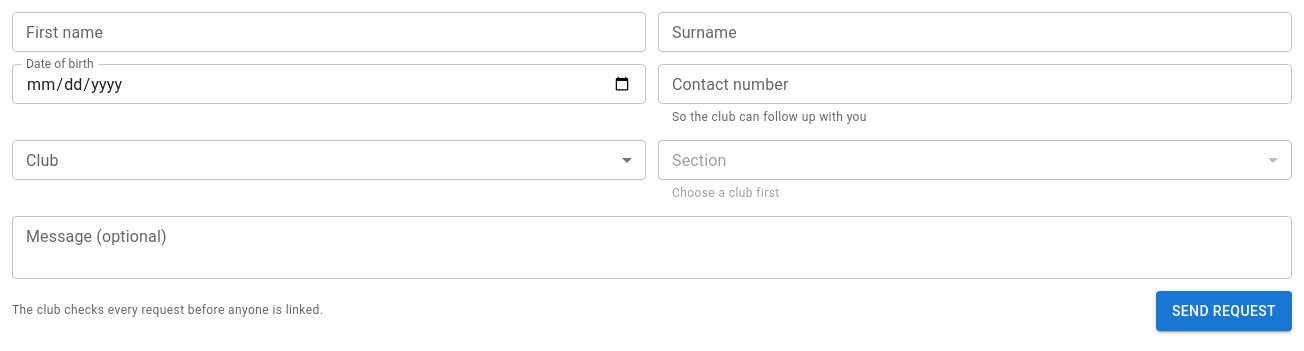
Scenario: LinkRequestForm › requires the contact number even when everything else is filled in
Expected: the 1st dropdown named "Club" is shown, left=12, top=140, right=646, bottom=180
Type "Aman" into the field labelled "First name" at (329, 32), box left=12, top=12, right=646, bottom=52
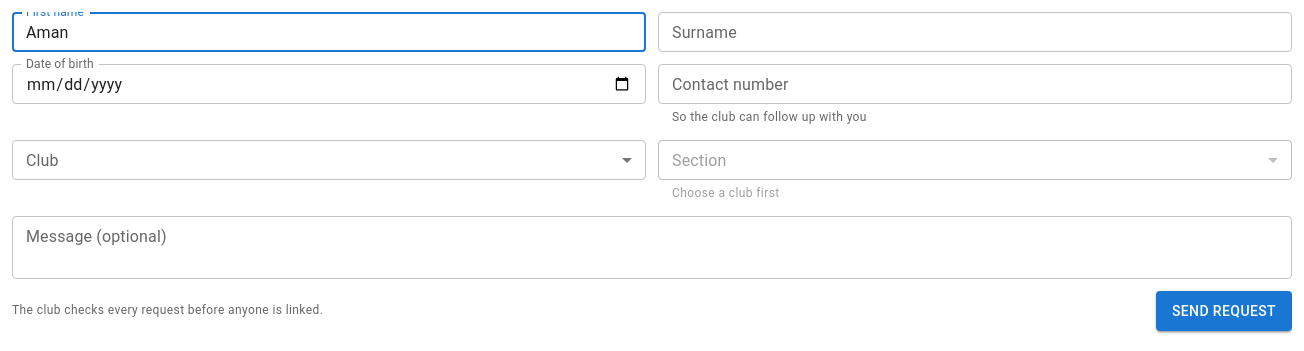
Type "Naidoo" into the field labelled "Surname" at (975, 32), box left=658, top=12, right=1292, bottom=52
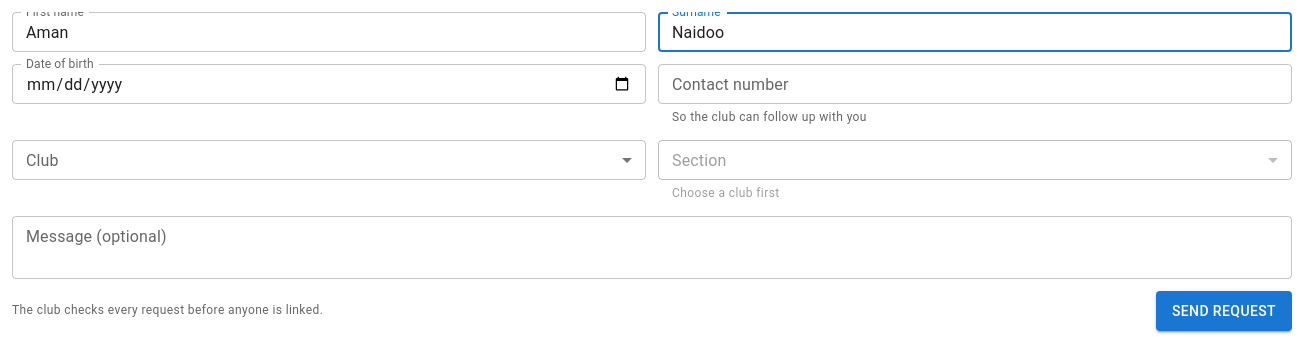
Type "2012-03-04" into the date field labelled "Date of birth" at (329, 84), box left=12, top=64, right=646, bottom=104
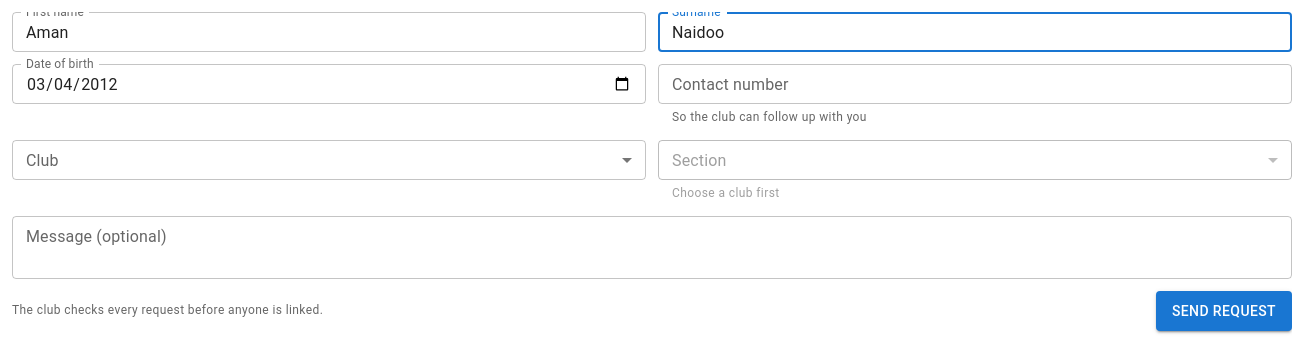
Click the 1st dropdown named "Club" at (329, 160), box left=12, top=140, right=646, bottom=180
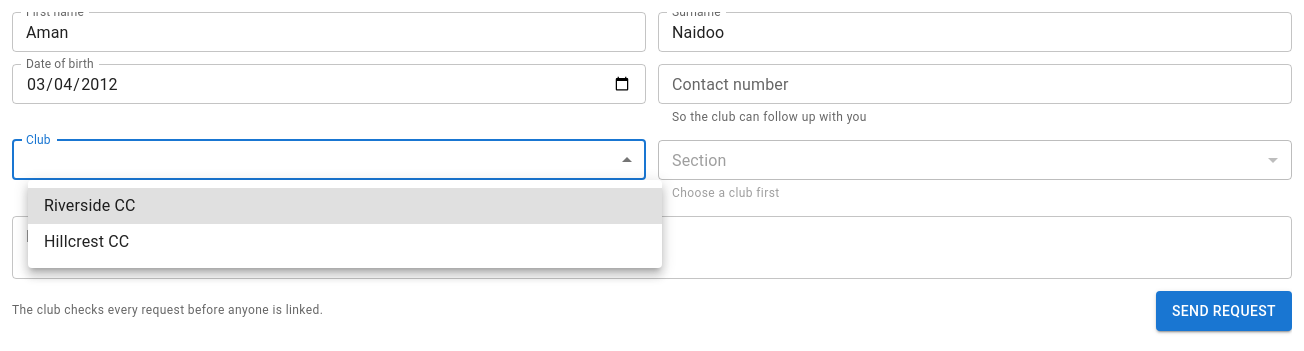
Click the option "Hillcrest CC" at (87, 242), box left=44, top=232, right=129, bottom=251
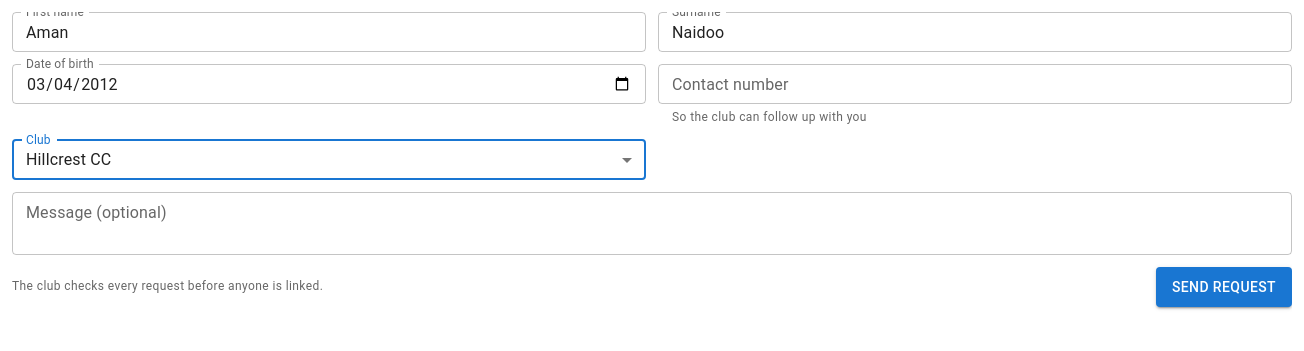
Click the button "Send request" at (1224, 287), box left=1156, top=267, right=1292, bottom=307
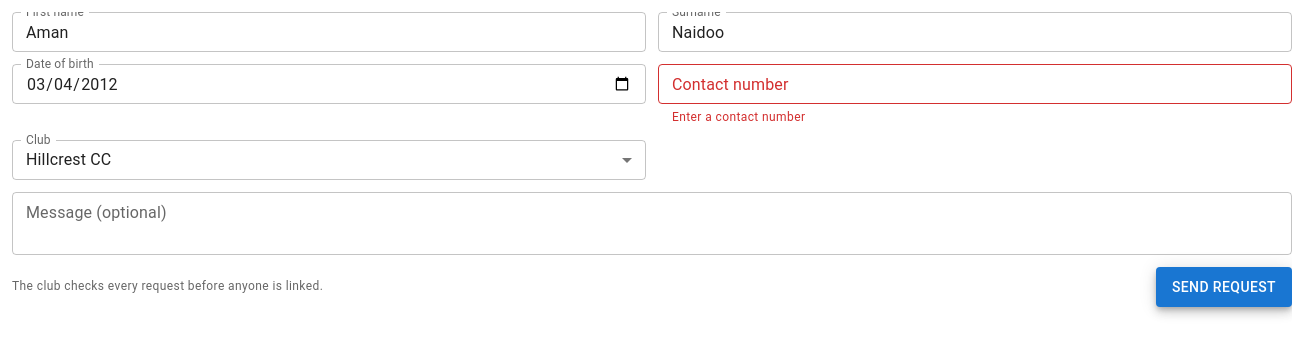
Expected: the text "Enter a contact number" is shown, left=672, top=110, right=805, bottom=124
